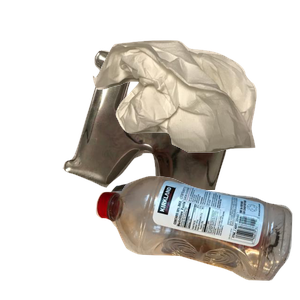glass: (102, 181, 246, 300)
metal: (60, 47, 300, 227)
plastic: (93, 173, 300, 300)
trash: (90, 38, 300, 183)
